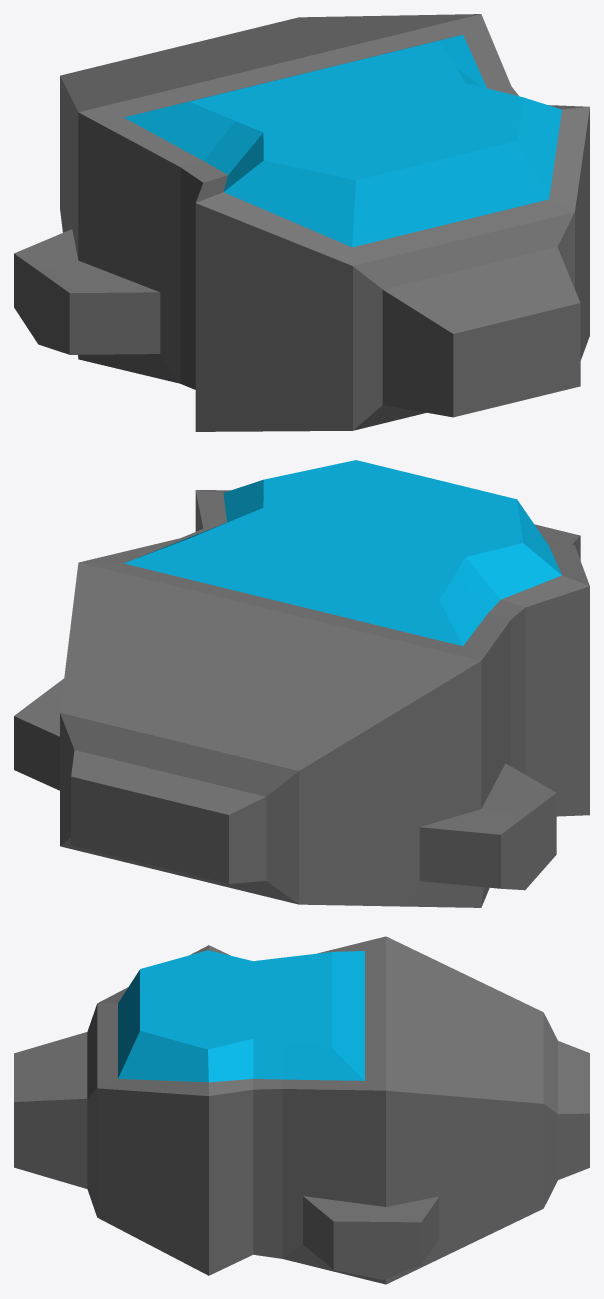
File: _1Ship_PIece21.fbx
3 renders of one model, top to bottom at view 1: azimuth 30°, elevation 25°; view 2: azimuth 150°, elevation 25°; view 3: azimuth 270°, elevation 25°, orthographic. The views are drawn at different scales.
Visible parts, largest first — view 1: Ship_PIece21; view 2: Ship_PIece21; view 3: Ship_PIece21.
Boxes of the visible parts, x1,y1,x2,y2 form: Ship_PIece21: [14, 14, 589, 431]; Ship_PIece21: [14, 460, 589, 907]; Ship_PIece21: [14, 936, 589, 1284].
Bounding box in the file's own units: 258 × 134 × 336.
